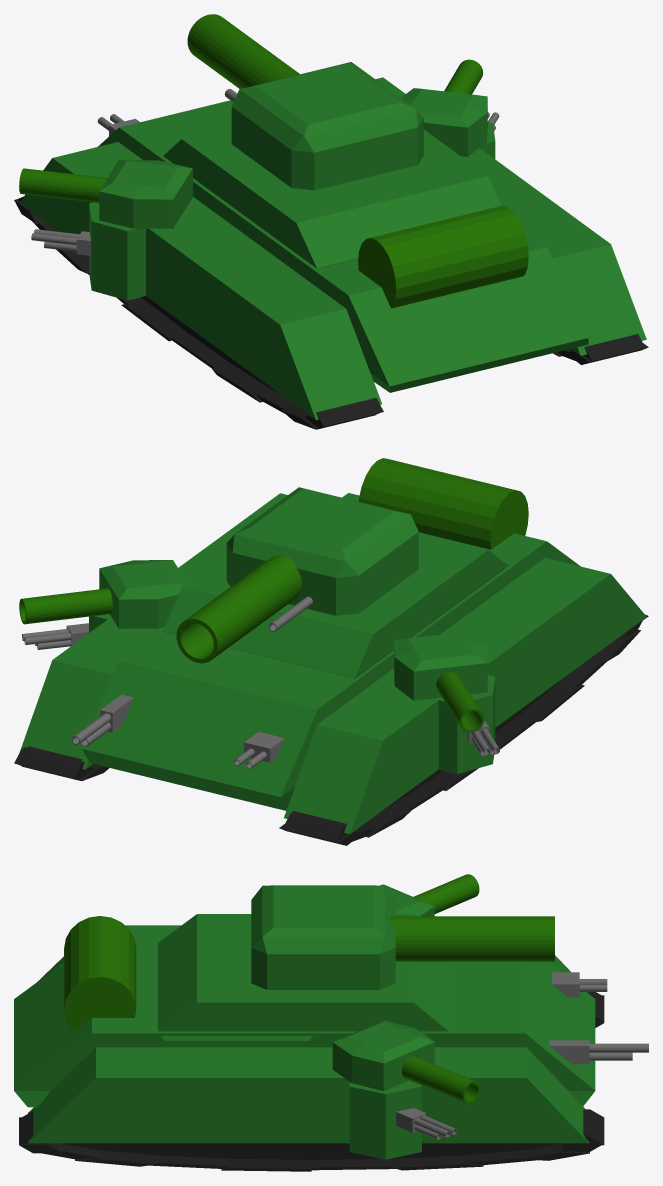
File: ITISTHEBANEBLADE2.fbx
3 views of the same model, one above another, from view 1: azimuth 30°, elevation 25°; view 2: azimuth 150°, elevation 25°; view 3: azimuth 270°, elevation 25° (orthographic). The views are drawn at different scales.
Visible parts, largest first — view 1: Cube.001, Cube, Cube.005, Cube.003, Cylinder.006, Cube.002, Cylinder.002, Cube.007, Cylinder, Cube.009, Cube.006, Cylinder.012 (+3 smaller); view 2: Cube, Cube.001, Cube.005, Cube.003, Cube.002, Cylinder.006, Cylinder.002, Cylinder, Cube.007, Cube.006, Cube.009, Cylinder.011 (+5 smaller); view 3: Cube.002, Cube, Cube.005, Cube.003, Cylinder.001, Cylinder, Cylinder.006, Cube.006, Cube.004, Cylinder.011, Cylinder.005, Cylinder.012 (+4 smaller).
Boxes of the visible parts, x1,y1,x2,y2 form: Cube.001: (19, 142, 381, 420); Cube: (98, 100, 588, 392); Cube.005: (163, 127, 501, 268); Cube.003: (231, 62, 423, 190); Cylinder.006: (358, 205, 528, 308); Cube.002: (375, 77, 646, 355); Cylinder.002: (14, 196, 383, 429); Cube.007: (99, 160, 192, 228); Cylinder: (187, 14, 299, 88); Cube.009: (89, 202, 145, 300); Cube.006: (401, 88, 487, 156); Cylinder.012: (19, 168, 107, 202); Cube: (82, 493, 580, 810); Cube.001: (284, 558, 646, 834); Cube.005: (163, 533, 508, 678); Cube.003: (226, 487, 418, 615); Cube.002: (19, 493, 287, 769); Cylinder.006: (358, 458, 528, 549); Cylinder.002: (279, 614, 648, 845); Cylinder: (176, 555, 301, 663); Cube.007: (394, 632, 487, 700); Cube.006: (99, 560, 187, 628); Cube.009: (438, 675, 495, 773); Cylinder.011: (19, 588, 112, 624); Cube.002: (28, 1047, 589, 1143); Cube: (14, 941, 595, 1107); Cube.005: (158, 914, 448, 1040); Cube.003: (251, 885, 395, 989); Cylinder.001: (19, 1109, 604, 1171); Cylinder: (389, 916, 554, 961); Cylinder.006: (64, 916, 136, 1031); Cube.006: (332, 1020, 434, 1091); Cube.004: (349, 1080, 421, 1159); Cylinder.011: (402, 1056, 480, 1104); Cylinder.005: (549, 1040, 648, 1064); Cylinder.012: (413, 874, 479, 913).
Size of the model in its own units: 1428 by 1757 by 584.
